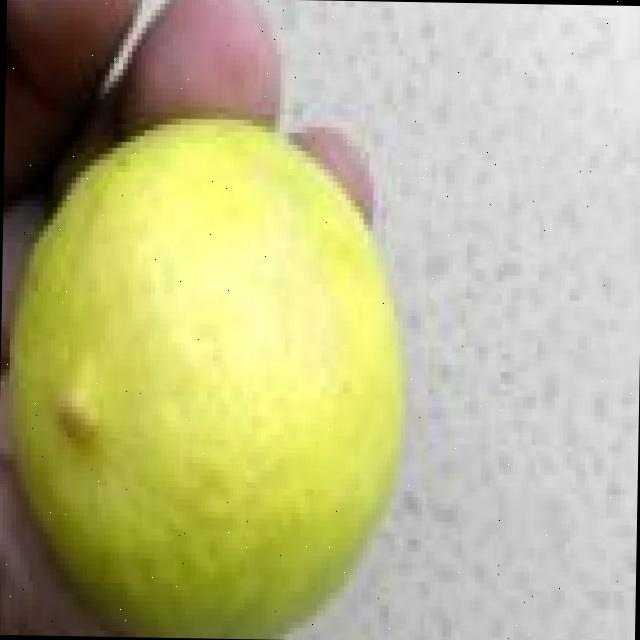Good_Lime-10-21-days: (0, 93, 403, 639)
